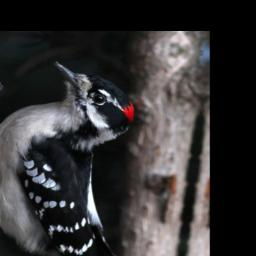Woodpecker: (0, 55, 203, 256)
